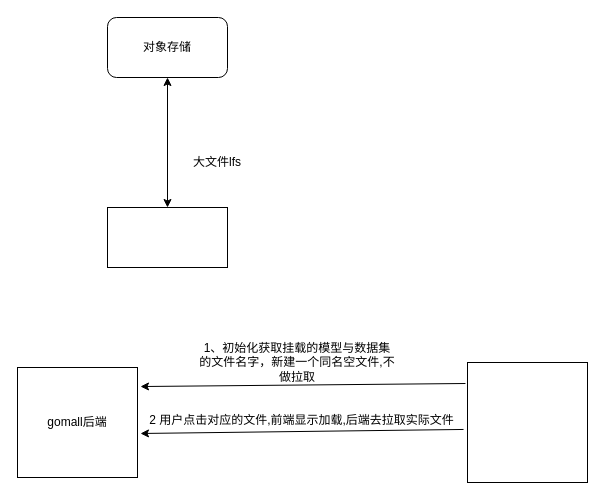
Some shapes in this 605 by 500 pixel diagram are drawn without their labels. The centre of each missing label's shape, as x and y in pixels:
"gitlab 服务器" goes at [167,237].
"jupyter" goes at [527,422].
